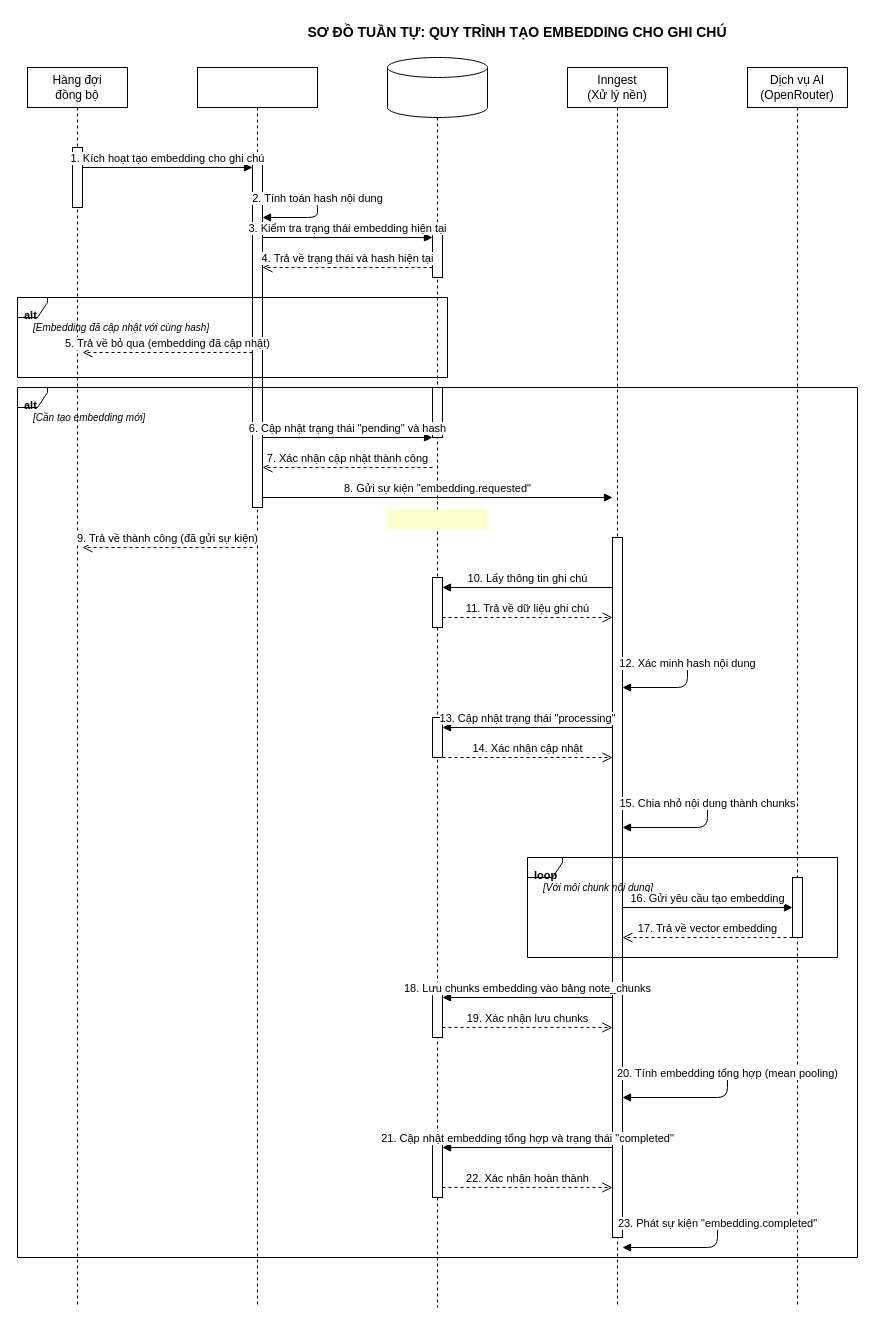
Some shapes in this 875 by 1326 pixel diagram are drawn without their labels. Each missing label, with the centre of its shape:
Cơ sở dữ liệu: (437,87)
Server Action (Trigger Embedding): (257,87)
Xử lý bất đồng bộ: (437,519)
